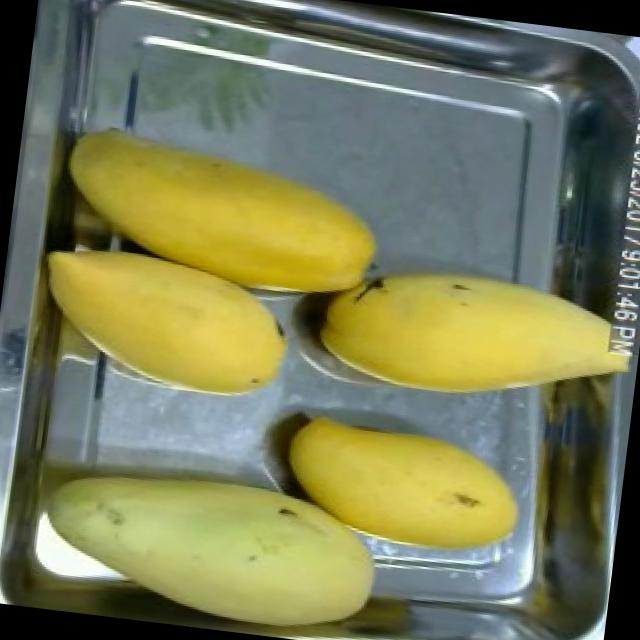fruit: (15, 428, 396, 640), (41, 117, 395, 311), (294, 242, 622, 430), (23, 228, 310, 416), (259, 394, 544, 580)
